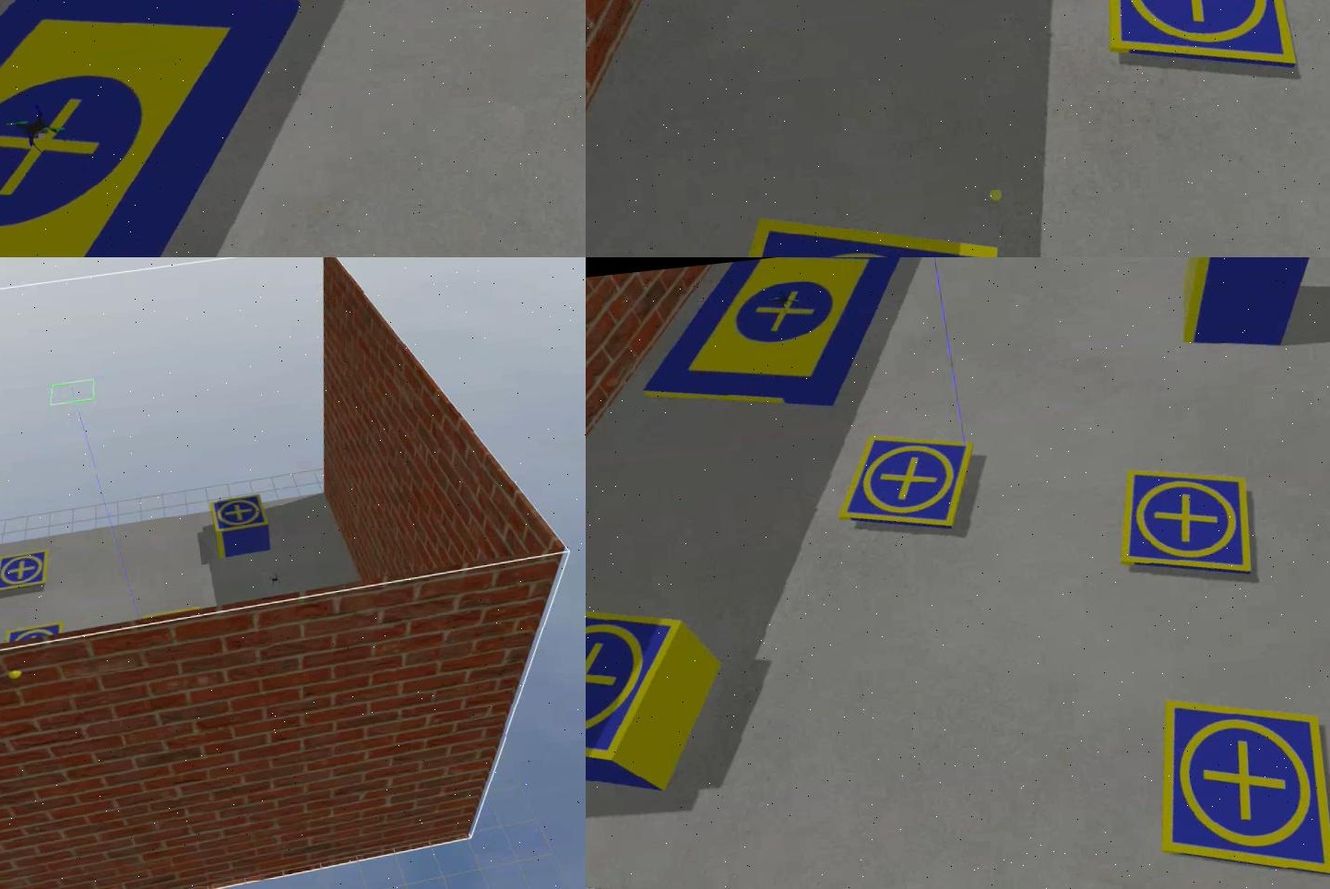large_base: (0, 1, 341, 258), (631, 258, 926, 428)
small_base: (1141, 683, 1328, 889), (652, 196, 1015, 258), (584, 597, 695, 776), (1111, 460, 1260, 587), (1090, 1, 1299, 89), (831, 430, 980, 543), (206, 491, 267, 535), (0, 547, 52, 597), (2, 622, 63, 646)
